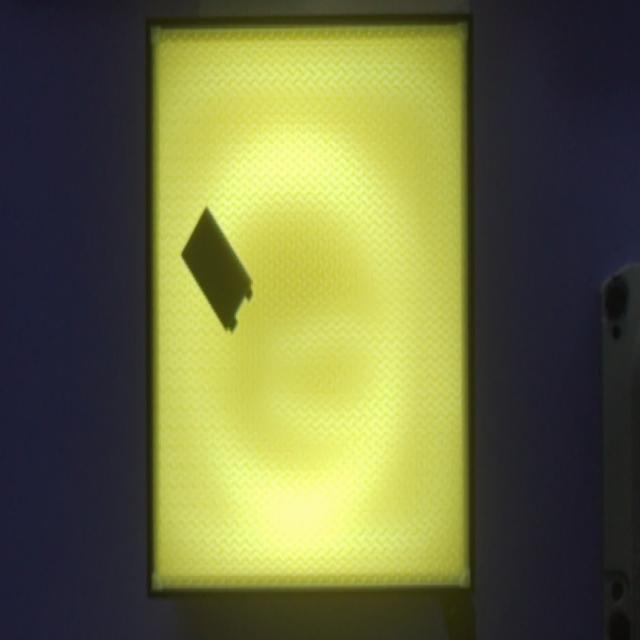bateria: (180, 205, 254, 333)
mesa: (146, 13, 474, 600)
